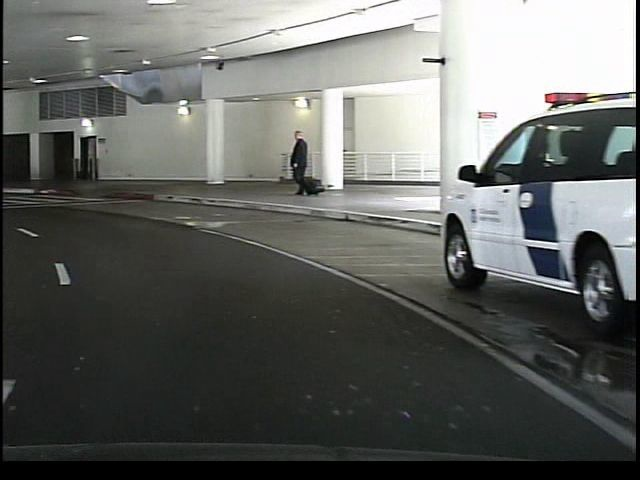person: (284, 127, 318, 203)
